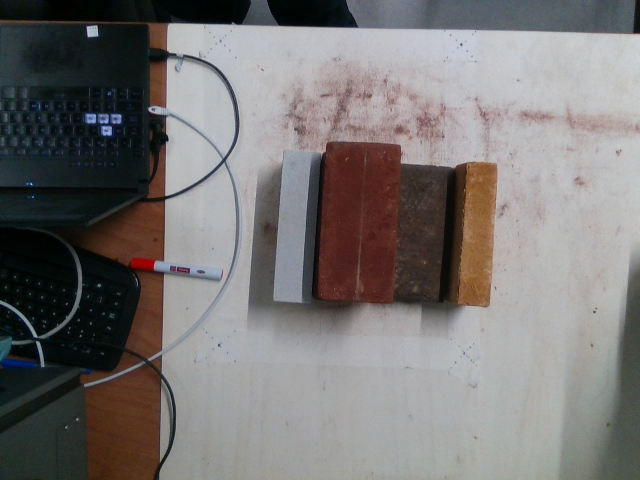brick: (319, 140, 400, 300), (394, 164, 456, 304)
brick-side: (272, 146, 318, 302), (458, 160, 499, 308)
